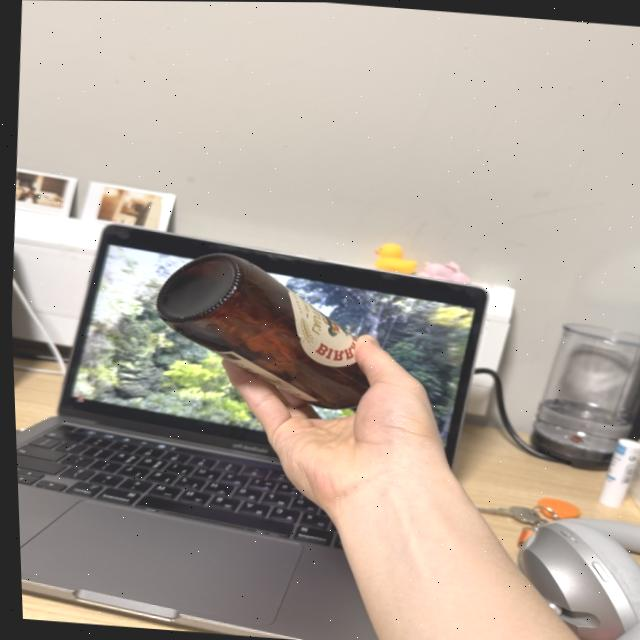beer: (139, 243, 444, 424)
